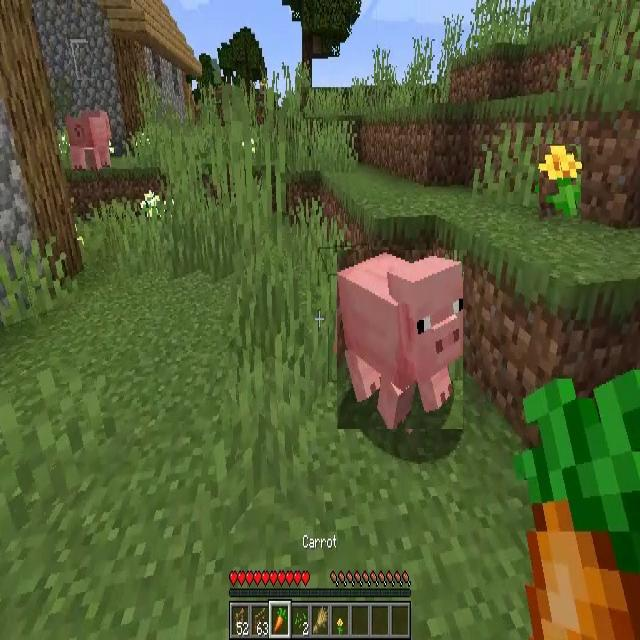flower: (540, 144, 582, 221)
pig: (338, 250, 463, 429), (67, 112, 111, 172)
